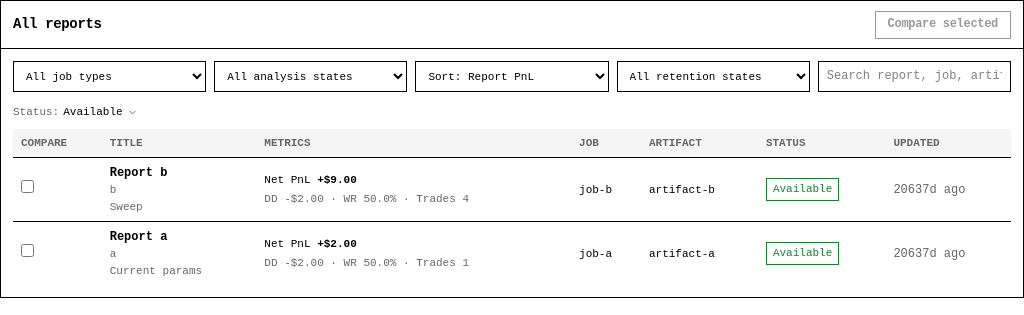
Test: ResearchReportsPage › retention archived filter includes archived reports
This screenshot has width=1024, height=315.
Select "Archived only" in the dropdown named "report retention filter" at {"x": 713, "y": 77}, box [617,61,810,92]
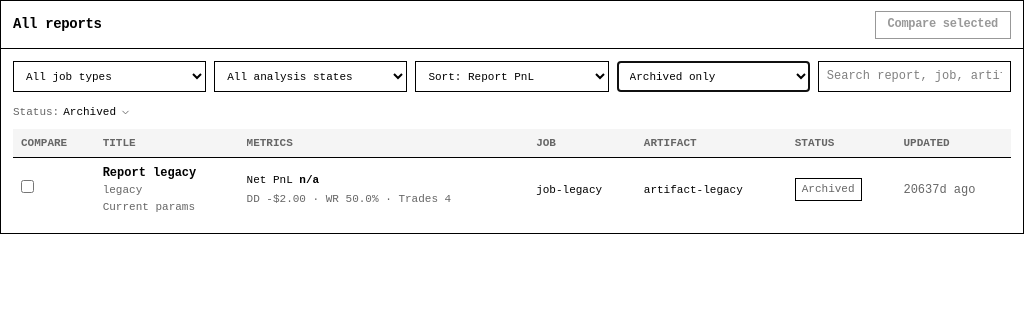
Expected: the link "Report legacy" is shown, [103,166,196,180]
Expected: the link "Report a" is gone
